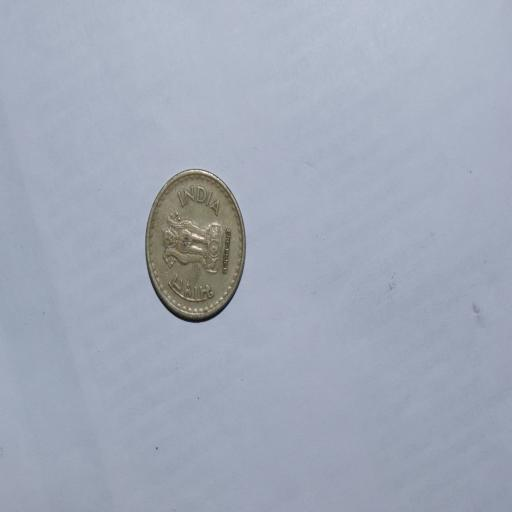rupee5: (144, 169, 247, 323)
